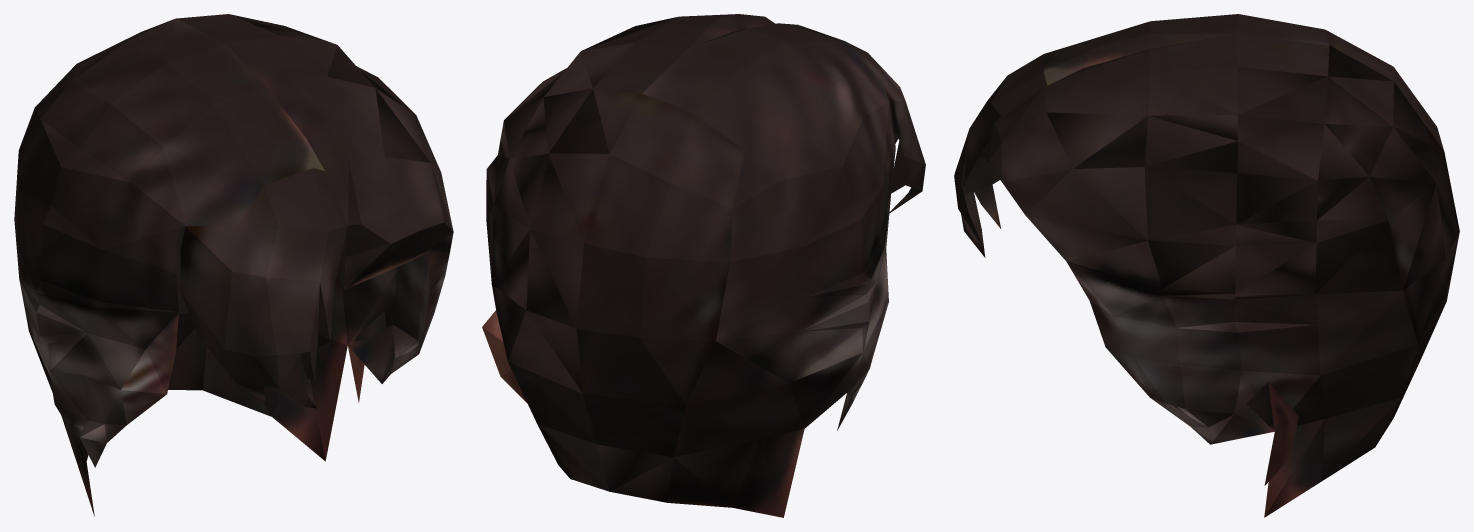
File: HairDr Strange.obj
3 renders of one model, left to right at view 1: azimuth 30°, elevation 25°; view 2: azimuth 150°, elevation 25°; view 3: azimuth 270°, elevation 25°, orthographic. The views are drawn at different scales.
Parts seen in each view (by area): view 1: 3DGeom~14; view 2: 3DGeom~14; view 3: 3DGeom~14.
Boxes of the visible parts, bbox=[...] form: 3DGeom~14: bbox=[14, 14, 453, 516]; 3DGeom~14: bbox=[482, 14, 925, 517]; 3DGeom~14: bbox=[954, 14, 1459, 517].
Bounding box in the file's own units: 8.45 × 9.77 × 10.39.
